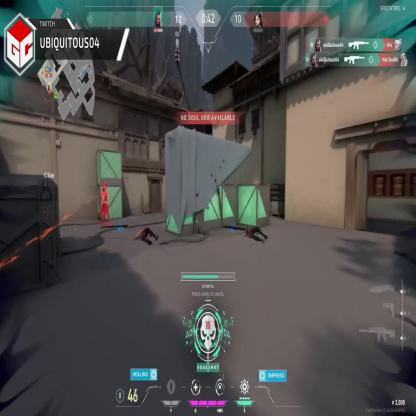enemy: (98, 181, 111, 226)
enemy_head: (102, 182, 106, 192)
